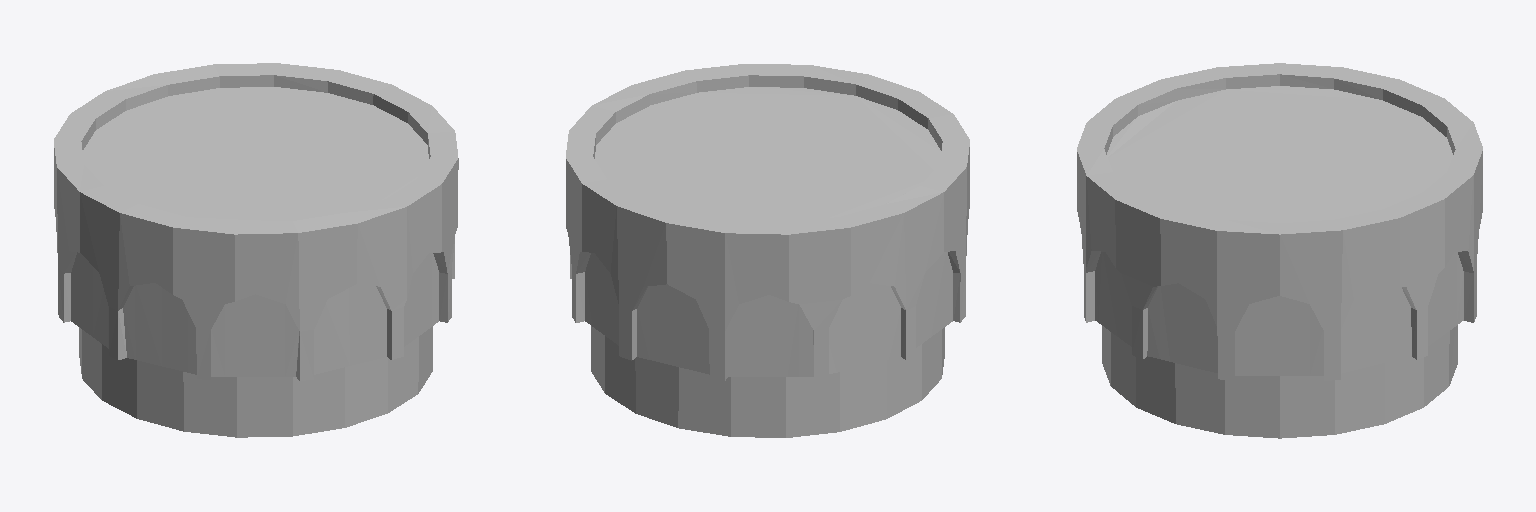
Rendered from table_1.obj.
3 renders of one model, left to right at view 1: azimuth 30°, elevation 25°; view 2: azimuth 150°, elevation 25°; view 3: azimuth 270°, elevation 25°, orthographic.
Parts seen in each view (by area): view 1: Mesa1_Cylinder; view 2: Mesa1_Cylinder; view 3: Mesa1_Cylinder.
Part boxes in pixels (x1,y1,x2,y2): Mesa1_Cylinder: (54, 63, 458, 437); Mesa1_Cylinder: (566, 64, 969, 437); Mesa1_Cylinder: (1077, 63, 1482, 438).
Bounding box in the file's own units: 1.2 × 0.6999 × 1.2.